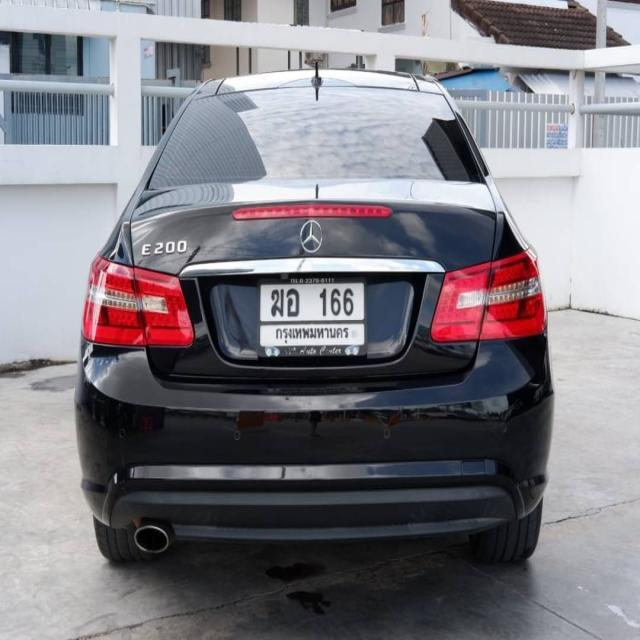license_plate: (259, 270, 366, 361)
